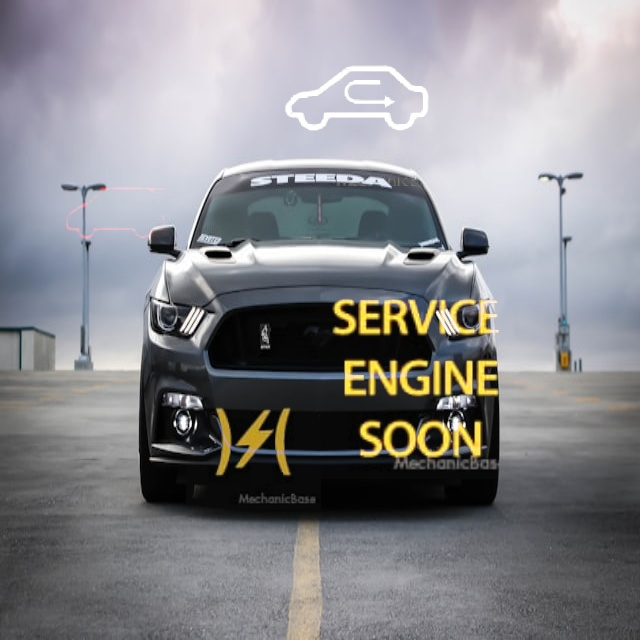symbol: (317, 282, 514, 479), (262, 5, 453, 196), (44, 139, 196, 291), (186, 375, 321, 510)
